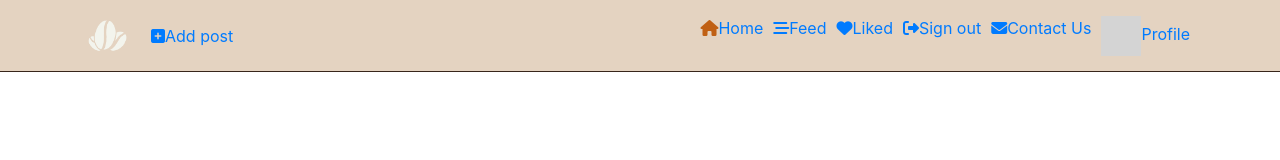
Test: renders Sign in and Sign up buttons again o log out
Click the link "Sign out" at (942, 28), box x1=903 y1=18 x2=981 y2=38
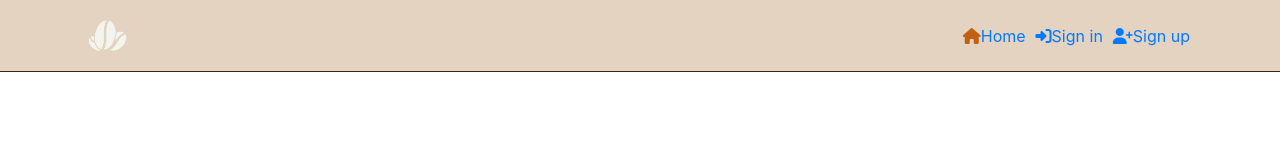
expect the link "Sign in" is shown: met, box x1=1036 y1=26 x2=1103 y2=46
expect the link "Sign up" is shown: met, box x1=1113 y1=26 x2=1190 y2=46
